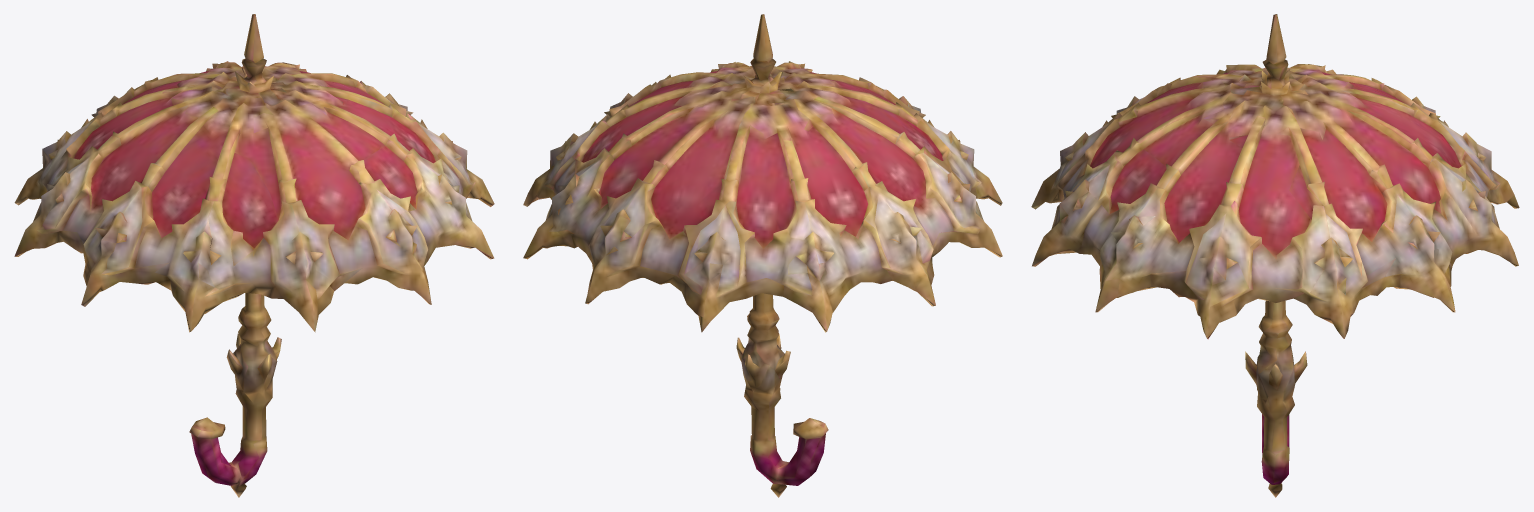
The model's file is veil_weapon.glb.
3 renders of one model, left to right at view 1: azimuth 30°, elevation 25°; view 2: azimuth 150°, elevation 25°; view 3: azimuth 270°, elevation 25°, orthographic. The views are drawn at different scales.
Bounding box in the file's own units: 0.9051 × 1 × 0.9052.
1 material, 1 textured.
